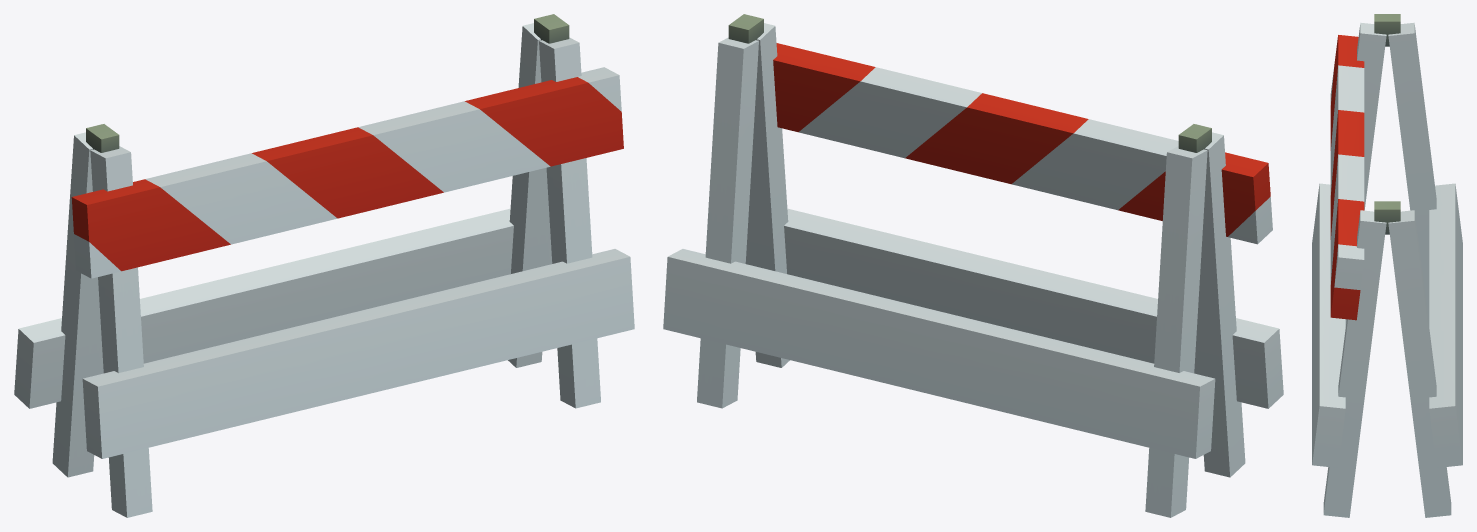
Rendered from barrier_wood.fbx.
3 renders of one model, left to right at view 1: azimuth 30°, elevation 25°; view 2: azimuth 150°, elevation 25°; view 3: azimuth 270°, elevation 25°, orthographic. The views are drawn at different scales.
Parts seen in each view (by area): view 1: barrier_wood; view 2: barrier_wood; view 3: barrier_wood.
Boxes of the visible parts, x1,y1,x2,y2 form: barrier_wood: (14, 14, 634, 517); barrier_wood: (663, 14, 1283, 517); barrier_wood: (1312, 14, 1462, 517).
Bounding box in the file's own units: 200 × 129 × 57.26.
